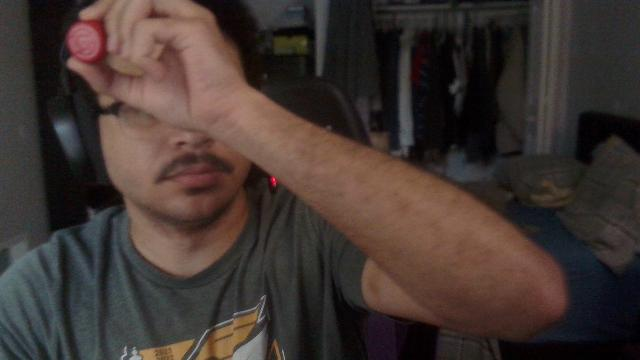cap: (67, 21, 105, 61)
